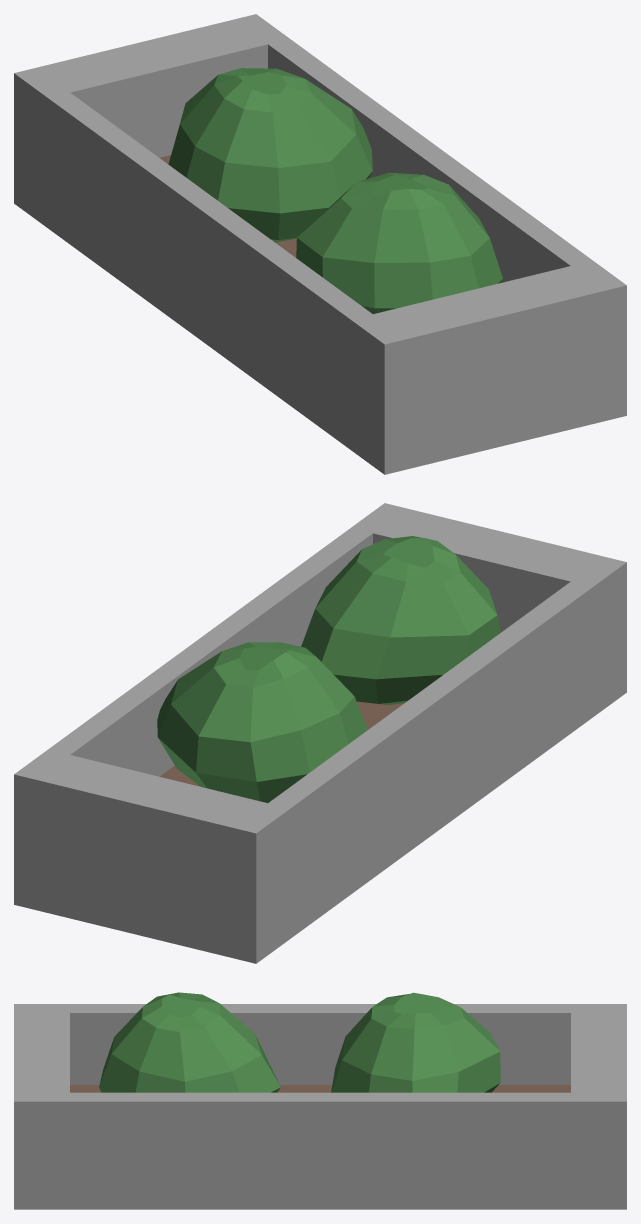
Rendered from DecBushes.fbx.
3 views of the same model, one above another, from view 1: azimuth 30°, elevation 25°; view 2: azimuth 150°, elevation 25°; view 3: azimuth 270°, elevation 25° (orthographic). The views are drawn at different scales.
Visible parts, largest first — view 1: polySurface1, pSphere3, pSphere2; view 2: polySurface1, pSphere3, pSphere2, polySurface2; view 3: polySurface1, pSphere2, pSphere3, polySurface2.
Part boxes in pixels (<box>): polySurface1: <box>14,14,626,474</box>; pSphere3: <box>168,68,372,242</box>; pSphere2: <box>296,172,502,313</box>; polySurface1: <box>14,503,626,963</box>; pSphere3: <box>157,642,367,802</box>; pSphere2: <box>301,536,500,704</box>; polySurface2: <box>159,701,403,786</box>; polySurface1: <box>14,1004,626,1209</box>; pSphere2: <box>99,992,280,1092</box>; pSphere3: <box>331,992,500,1092</box>; polySurface2: <box>70,1085,570,1092</box>.
Size of the model in its own units: 5.49 by 4.18 by 14.56.
